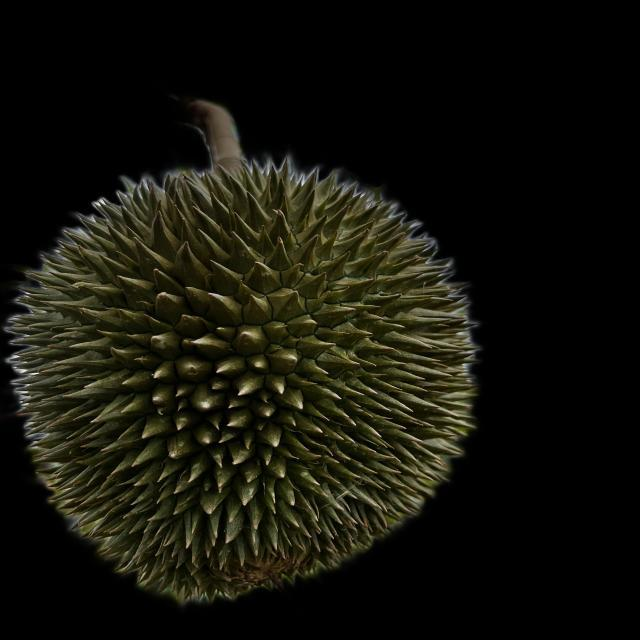immature: (8, 167, 494, 605)
